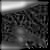node: (14, 34, 25, 44), (14, 26, 26, 34)
